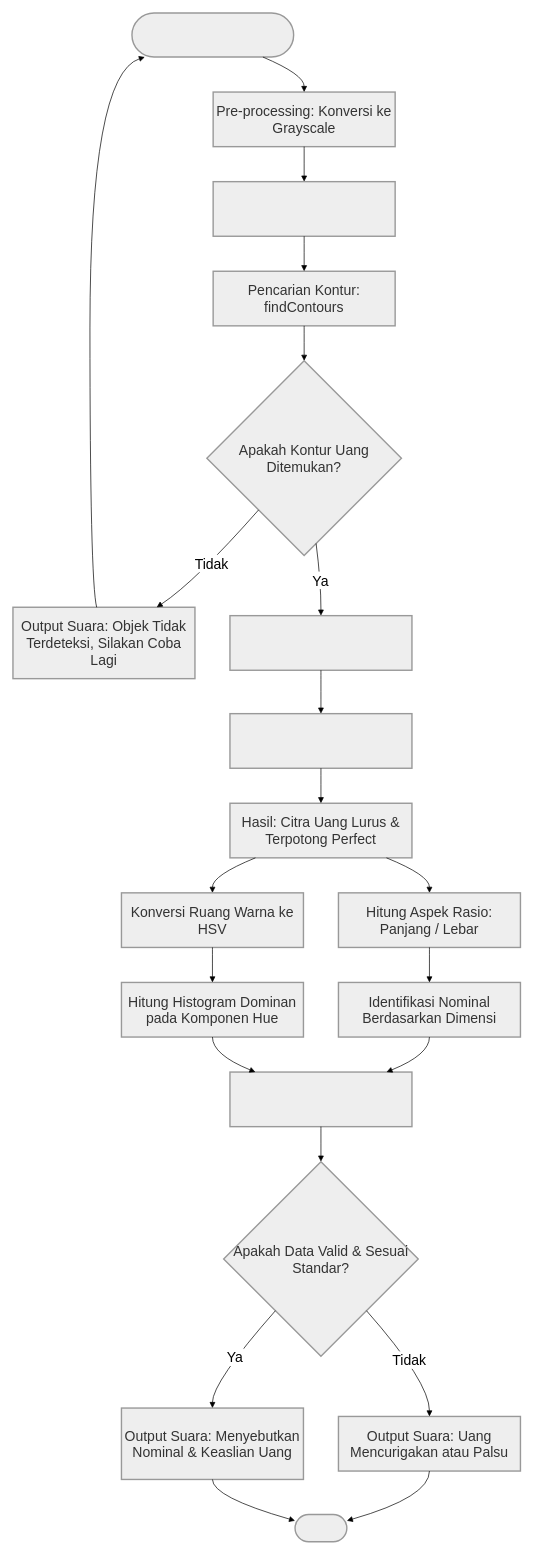
Some shapes in this 533 by 1554 pixel diagram are drawn without their labels. The box of each missing label's shape, as (x1, y1, x2, y2) in pixels:
Ambil 4 Titik Sudut Kontur: minAreaRect: (229, 615, 412, 671)
Deteksi Tepi: Canny Edge Detection: (212, 181, 396, 237)
Mulai: Kamera Mengambil Foto Uang: (131, 12, 294, 57)
Selesai: (294, 1513, 347, 1542)
Transformasi Geometri: Warp Perspective: (229, 713, 412, 769)
Validasi Silang: Kecocokan Ukuran & Warna Dominan: (229, 1071, 412, 1127)
